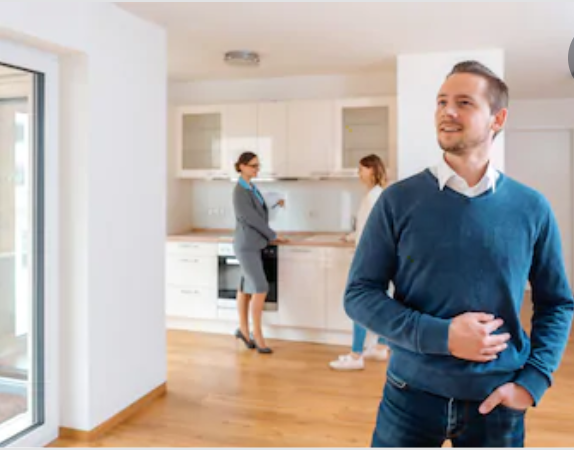Good: (346, 67, 574, 441), (225, 150, 385, 384)
